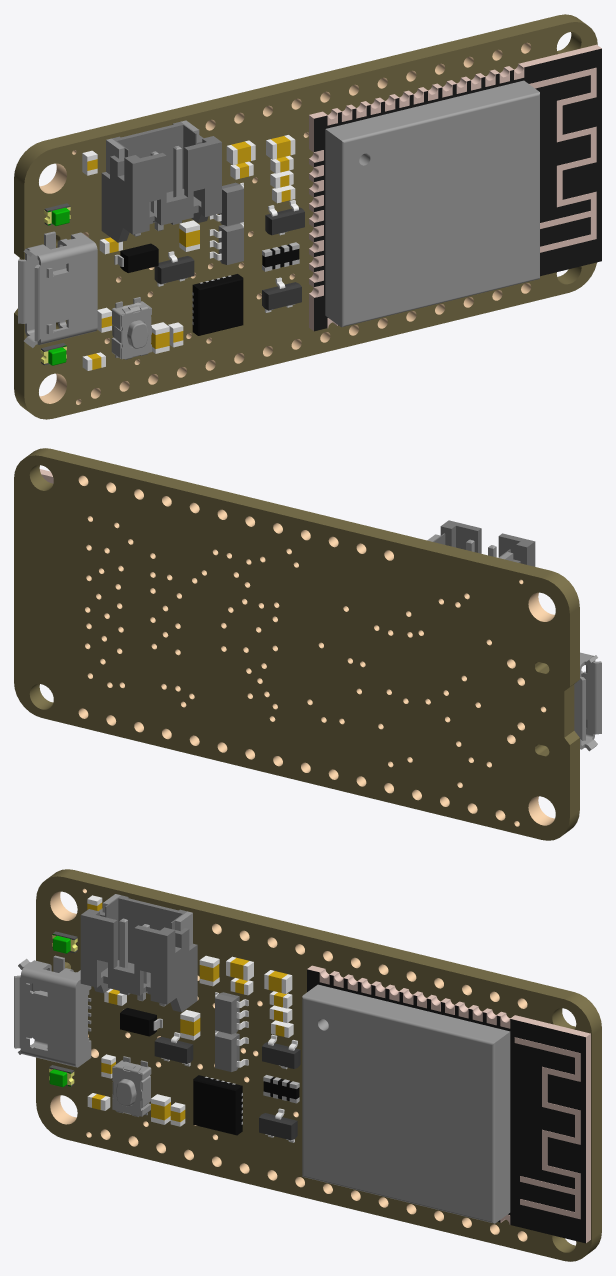
The model's file is adafruit_huzzah32.glb.
3 renders of one model, top to bottom at view 1: azimuth 30°, elevation 25°; view 2: azimuth 150°, elevation 25°; view 3: azimuth 330°, elevation 25°, orthographic. The views are drawn at different scales.
Parts seen in each view (by area): view 1: WROOM32_SKINNY:X2, Board:1, JSTPH2:X1, 4UCONN_20329_V2:X4, QFN24_4MM_SMSC:IC1, BTN_KMR2_4.6X2.8:SW2, SOT23-5:U3, SOT23-3:Q1, SOT23-5:U2, SOD-123:D4, SOT23-R:Q3, SOT23-3:Q2 (+5 smaller); view 2: Board:1, 4UCONN_20329_V2:X4, JSTPH2:X1; view 3: WROOM32_SKINNY:X2, Board:1, JSTPH2:X1, 4UCONN_20329_V2:X4, QFN24_4MM_SMSC:IC1, BTN_KMR2_4.6X2.8:SW2, SOT23-5:U2, SOT23-5:U3, SOT23-3:Q1, SOT23-R:Q3, SOD-123:D4, SOT23-3:Q2 (+6 smaller).
Boxes of the visible parts, x1,y1,x2,y2 form: WROOM32_SKINNY:X2: (309,44,601,331); Board:1: (14,14,597,419); JSTPH2:X1: (101,120,221,242); 4UCONN_20329_V2:X4: (18,231,97,347); QFN24_4MM_SMSC:IC1: (192,274,243,335); BTN_KMR2_4.6X2.8:SW2: (111,297,151,359); SOT23-5:U3: (209,222,243,264); SOT23-3:Q1: (265,200,304,235); SOT23-5:U2: (209,182,243,225); SOD-123:D4: (114,243,158,272); SOT23-R:Q3: (154,251,194,286); SOT23-3:Q2: (262,277,301,312); Board:1: (14,448,579,840); 4UCONN_20329_V2:X4: (574,652,601,751); JSTPH2:X1: (427,520,535,566); WROOM32_SKINNY:X2: (302,965,590,1243); Board:1: (36,869,601,1261); JSTPH2:X1: (80,894,197,1012); 4UCONN_20329_V2:X4: (14,955,91,1067); QFN24_4MM_SMSC:IC1: (193,1075,242,1135); BTN_KMR2_4.6X2.8:SW2: (112,1056,151,1116); SOT23-5:U2: (215,992,248,1034); SOT23-5:U3: (215,1030,248,1071); SOT23-3:Q1: (262,1034,300,1069); SOT23-R:Q3: (154,1032,193,1066); SOD-123:D4: (120,1008,162,1036); SOT23-3:Q2: (259,1108,297,1142).
Bounding box in the file's own units: 0.0514 × 0.0229 × 0.00637.
